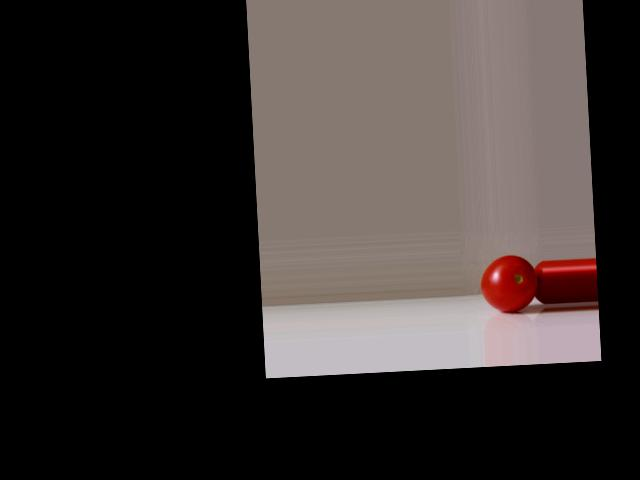tomato: (479, 254, 538, 313)
